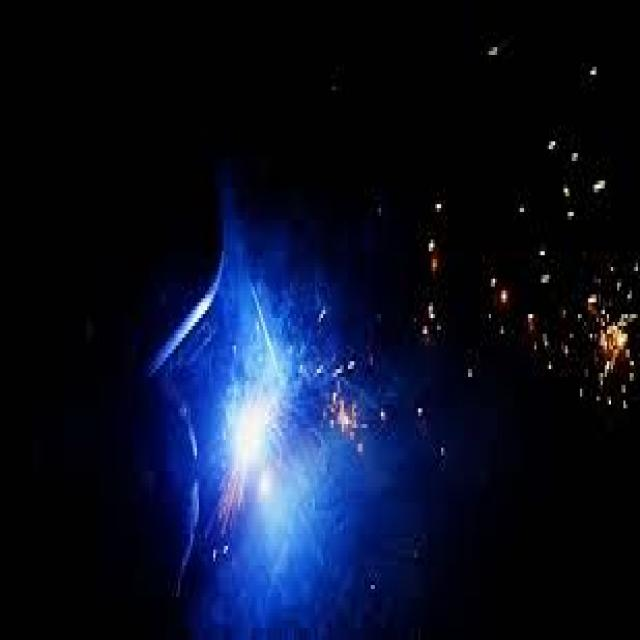welding: (232, 394, 272, 468)
